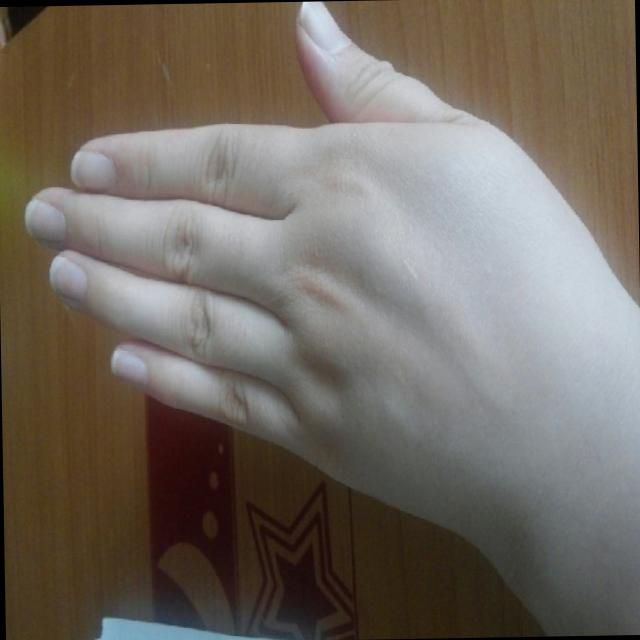Nail: (298, 0, 349, 49), (70, 149, 119, 193), (48, 254, 89, 300), (24, 198, 64, 241), (110, 353, 151, 387)
